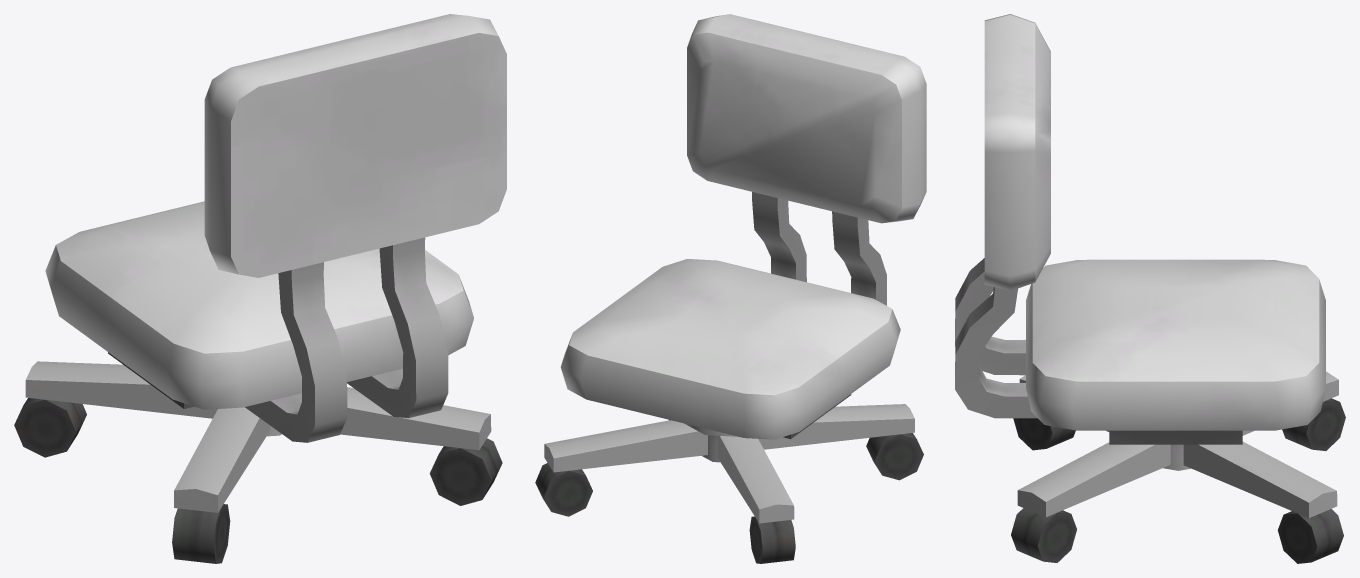
Rendered from Pfb_Chair__10.fbx.
3 views of the same model, side by side, from view 1: azimuth 30°, elevation 25°; view 2: azimuth 150°, elevation 25°; view 3: azimuth 270°, elevation 25° (orthographic). The views are drawn at different scales.
Visible parts, largest first — view 1: Mat_Chair_01_White; view 2: Mat_Chair_01_White; view 3: Mat_Chair_01_White.
Boxes of the visible parts, bbox=[...] form: Mat_Chair_01_White: bbox=[14, 14, 506, 563]; Mat_Chair_01_White: bbox=[535, 14, 926, 563]; Mat_Chair_01_White: bbox=[955, 14, 1345, 563].
Bounding box in the file's own units: 0.769 × 1.11 × 0.8971.
1 material, 1 textured.
